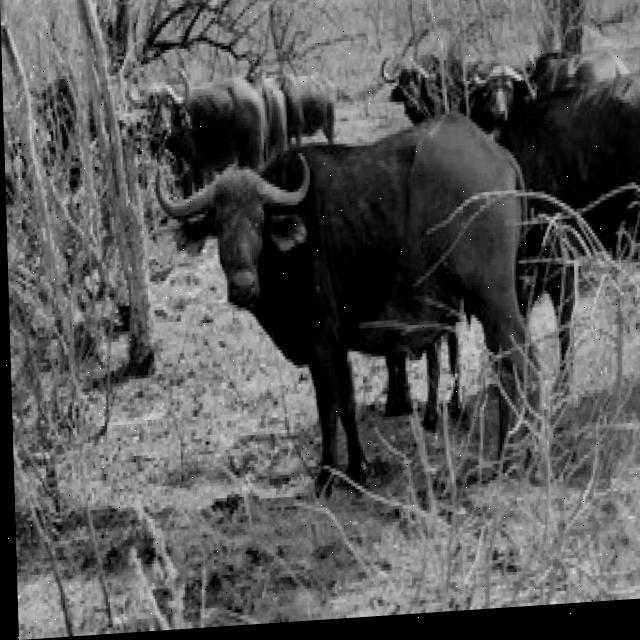Buffalo: (147, 99, 546, 515), (122, 53, 268, 204), (377, 45, 482, 135), (469, 55, 568, 135)
